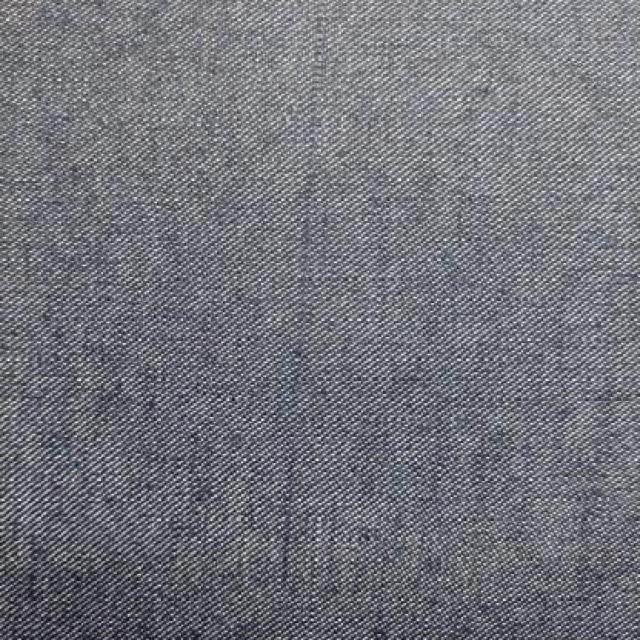pulled_or_thick_thread: (276, 3, 338, 593)
